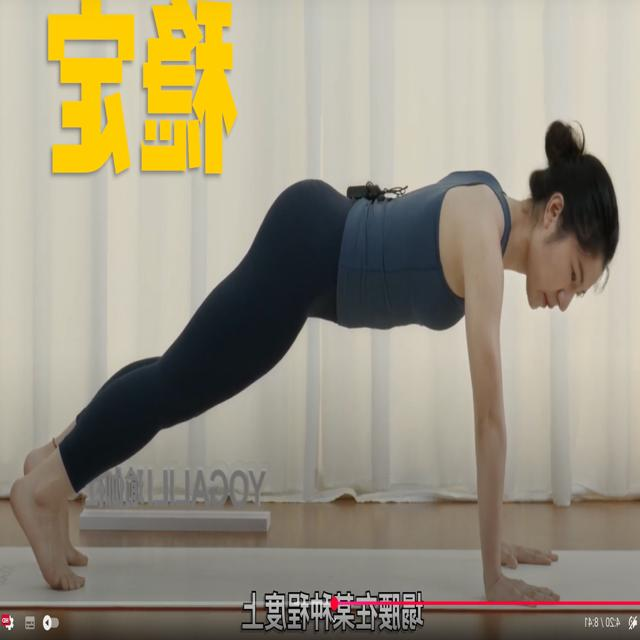Plank_Pose: (1, 123, 623, 612)
